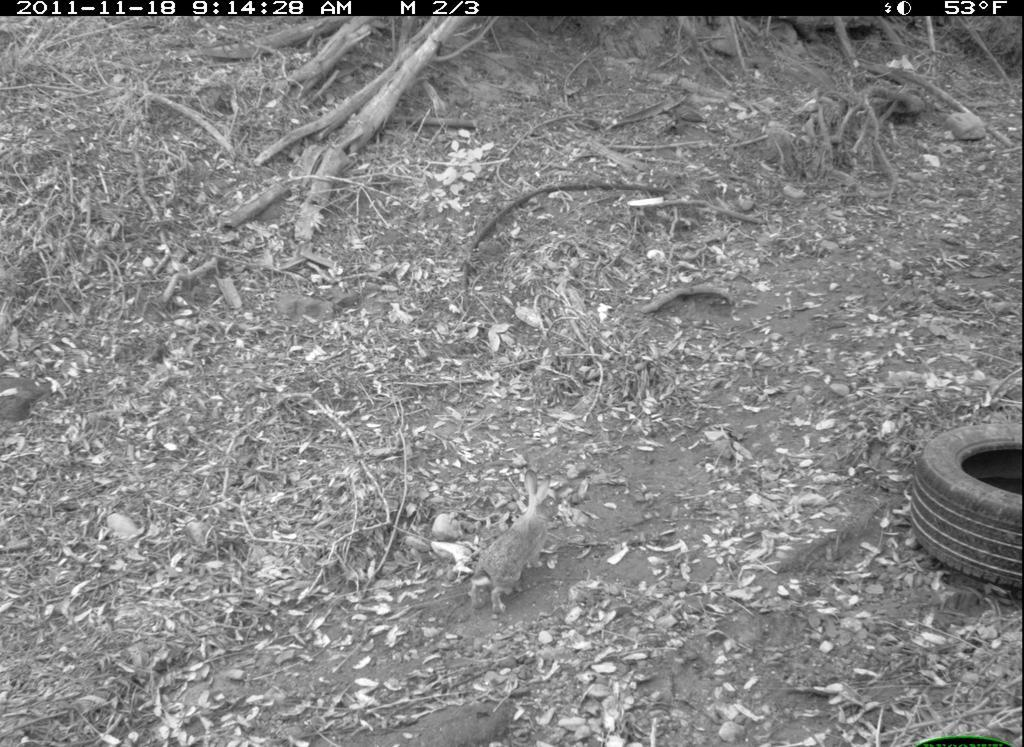rabbit: (468, 468, 563, 617)
